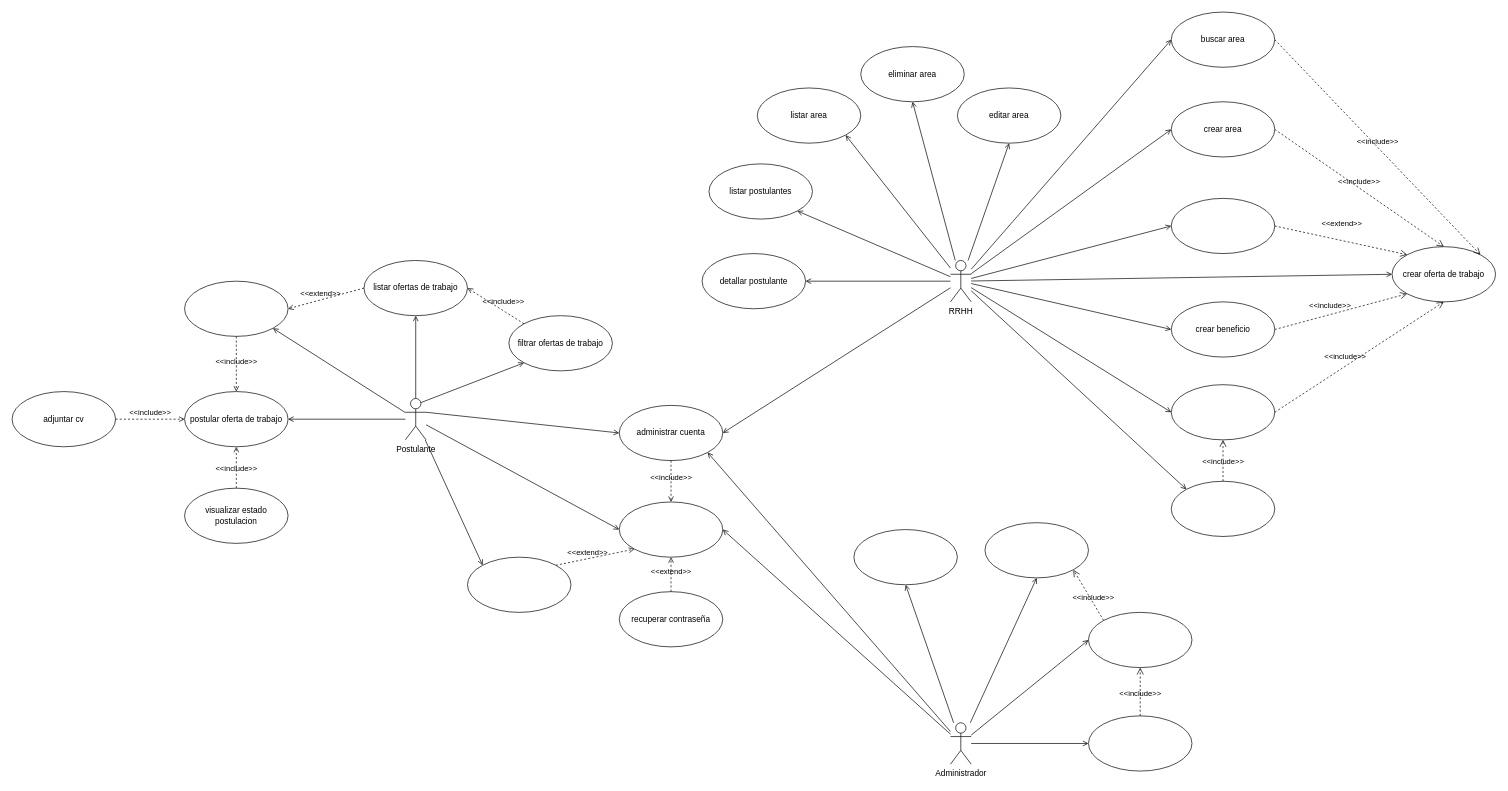
This 1508x791 diagram has some shape labels left out. The shapes that lost their labels are listed below. From the top down, each one's centre as x and y in pixels, then its label:
point 1223,226: crear requisito
point 236,308: detallar oferta de trabajo
point 1223,412: crear evaluacion
point 1223,508: puntuar evaluaciones
point 671,529: iniciar sesion
point 905,557: visualizar areas
point 1036,550: visualizar ofertas de trabajo
point 519,584: crear cuenta
point 1140,640: visualizar postulantes
point 1140,743: seleccionar postulantes
